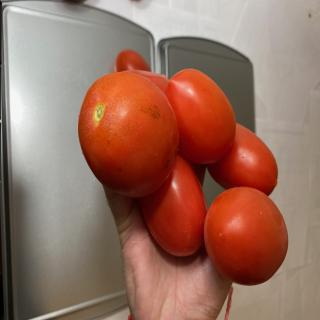Chilli: (78, 49, 289, 286)
Tomato: (78, 70, 179, 198), (204, 186, 288, 286), (139, 152, 208, 257), (165, 68, 236, 164), (207, 123, 278, 196), (114, 49, 151, 72)
